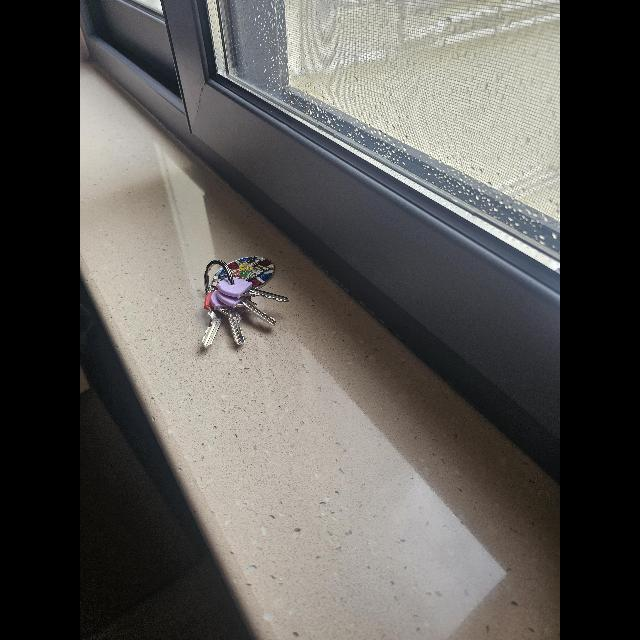Keys: (200, 258, 286, 348)
